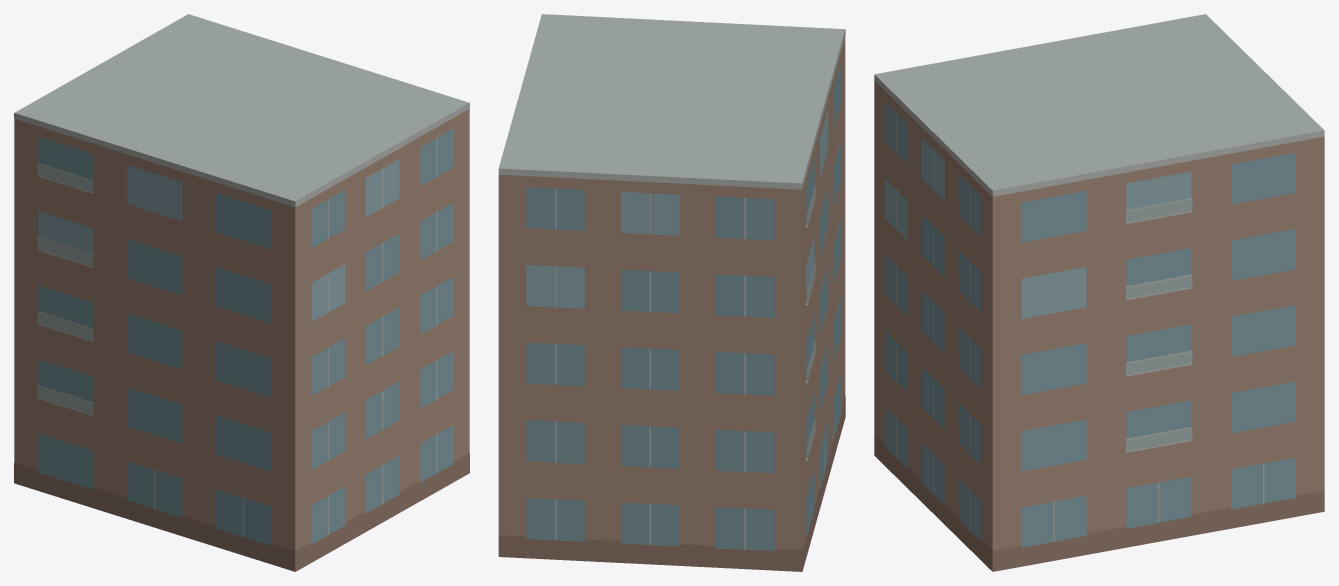
File: residential-64c9883a-7777-4f8a-964f-a0fcfafdc33b.glb
3 renders of one model, left to right at view 1: azimuth 30°, elevation 25°; view 2: azimuth 150°, elevation 25°; view 3: azimuth 270°, elevation 25°, orthographic. The views are drawn at different scales.
Visible parts, largest first — view 1: residential-64c9883a-7777-4f8a-964f-a0fcfafdc33b.tmp; view 2: residential-64c9883a-7777-4f8a-964f-a0fcfafdc33b.tmp; view 3: residential-64c9883a-7777-4f8a-964f-a0fcfafdc33b.tmp.
Boxes of the visible parts, x1=… form: residential-64c9883a-7777-4f8a-964f-a0fcfafdc33b.tmp: x1=14, y1=14, x2=469, y2=571; residential-64c9883a-7777-4f8a-964f-a0fcfafdc33b.tmp: x1=498, y1=14, x2=845, y2=571; residential-64c9883a-7777-4f8a-964f-a0fcfafdc33b.tmp: x1=874, y1=14, x2=1324, y2=571.
Size of the model in its own units: 15.18 by 15.25 by 16.34.
